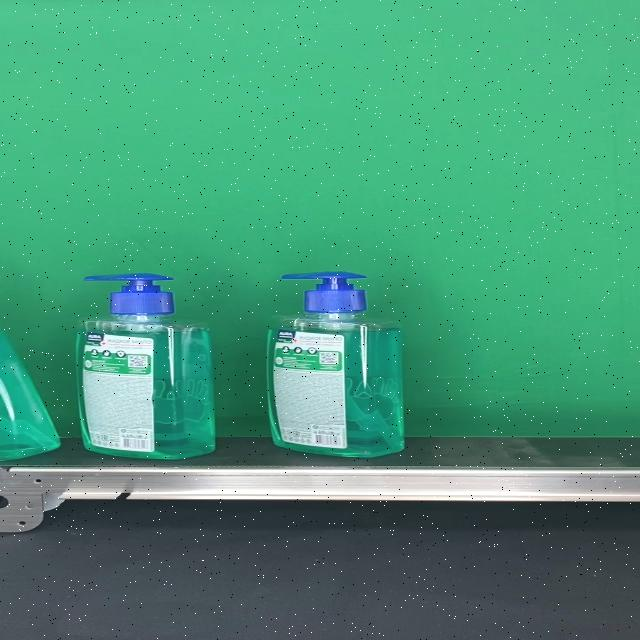Bottle: (266, 270, 405, 458), (76, 273, 216, 459)
Cap: (83, 274, 174, 316), (282, 271, 371, 312)
